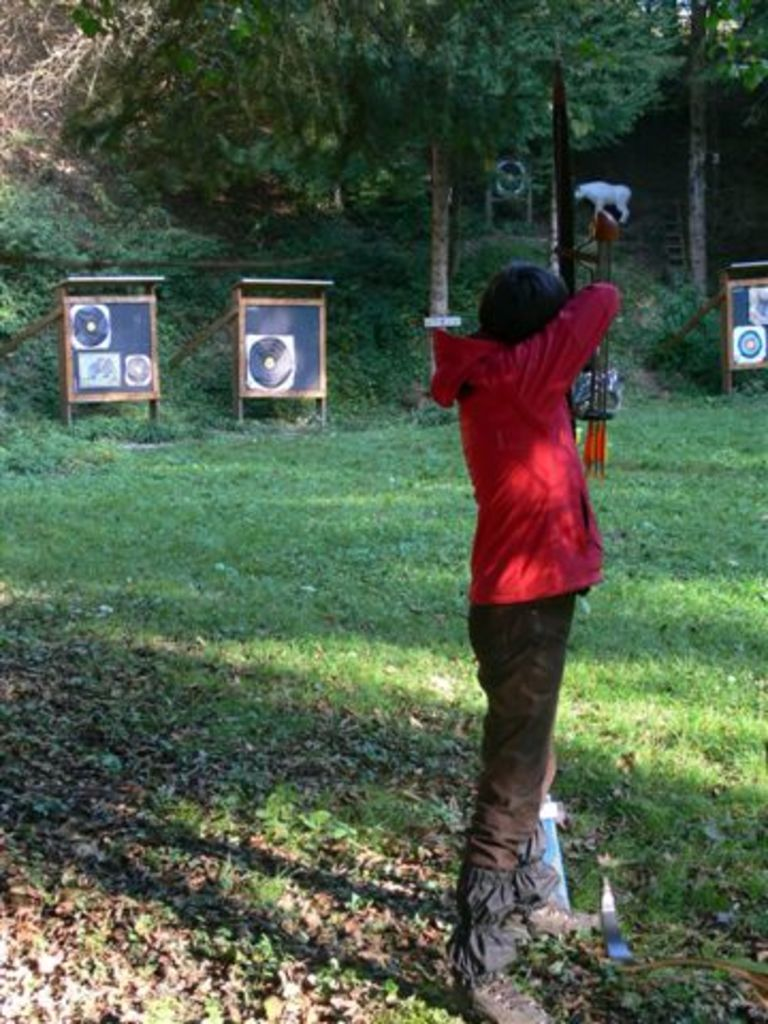Person: (431, 265, 622, 1024)
